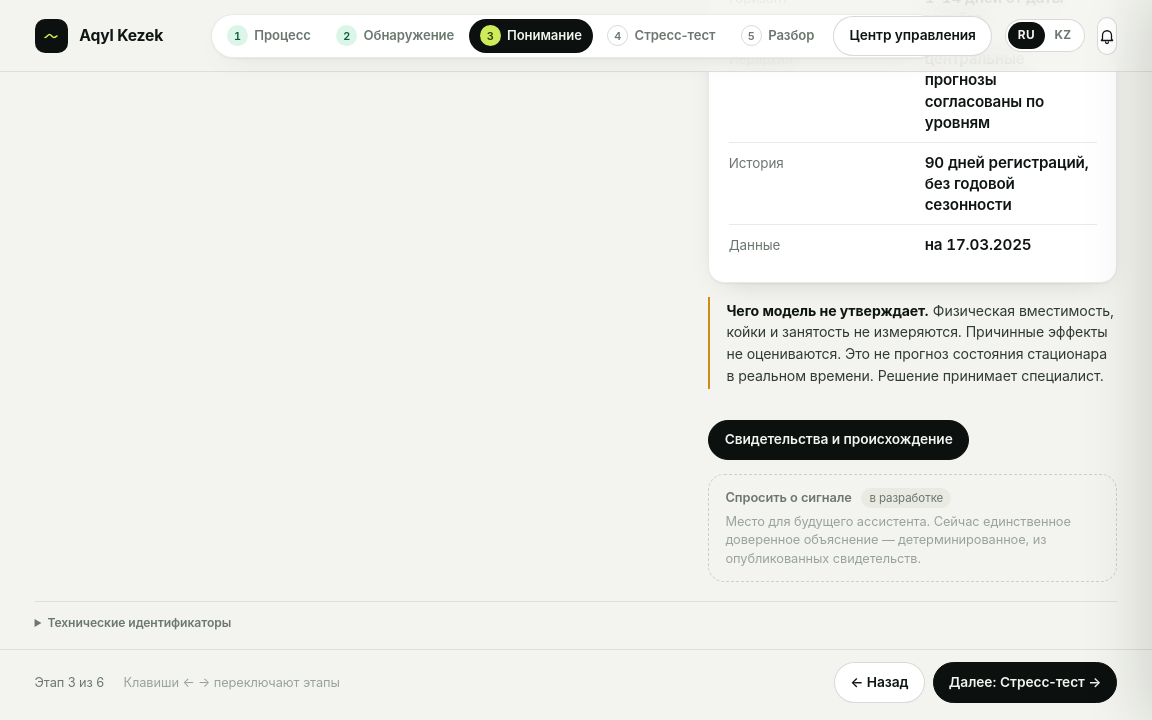
Test: Guided decision journey › UNDERSTAND renders the forecast story, mapped reasons and an evidence drawer without raw enums
(page scrolled)
Expected: the text "Спросить о сигнале" is shown, 726,489 -> 852,507
Click the button "Свидетельства и происхождение". click: (839, 440)
box: 708,420 -> 969,460
(page scrolled)
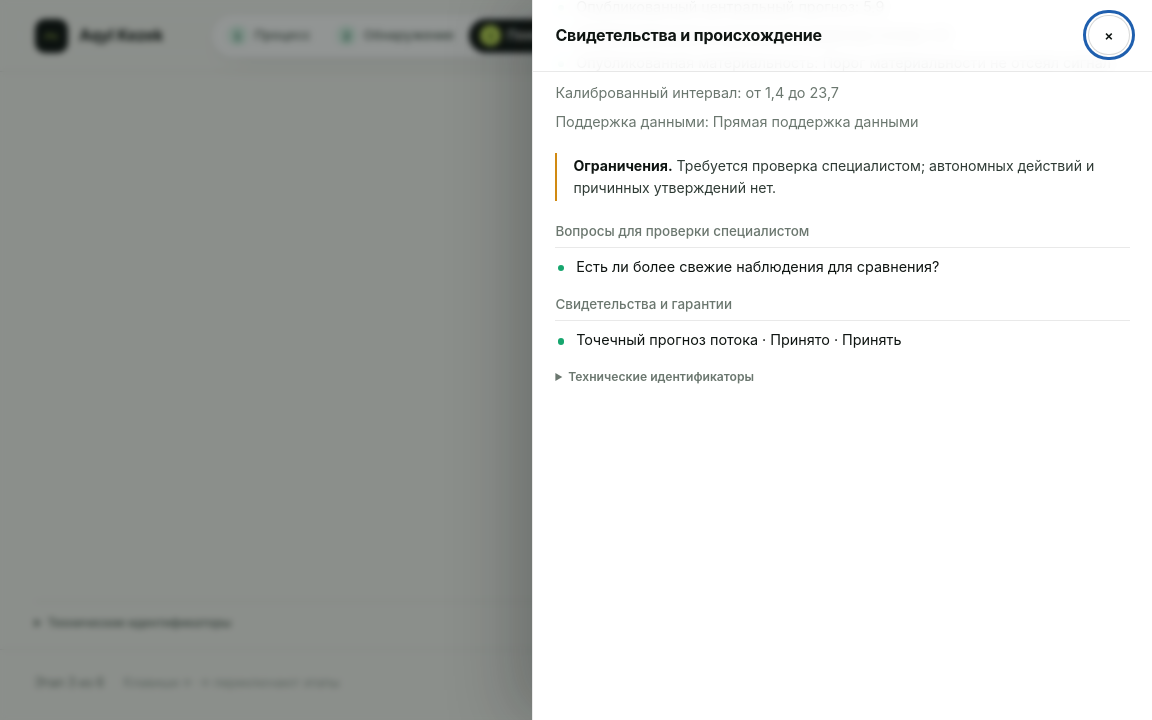
Expected: the text "Калиброванный интервал: от 1,4 до 23,7" is shown, 555,84 -> 839,100
Expected: the list item "Есть ли более свежие наблюдения для сравнения?" is shown, 576,258 -> 939,275
Click the heading "Технические идентификаторы". click: (661, 376)
box: 568,368 -> 754,384
(page scrolled)
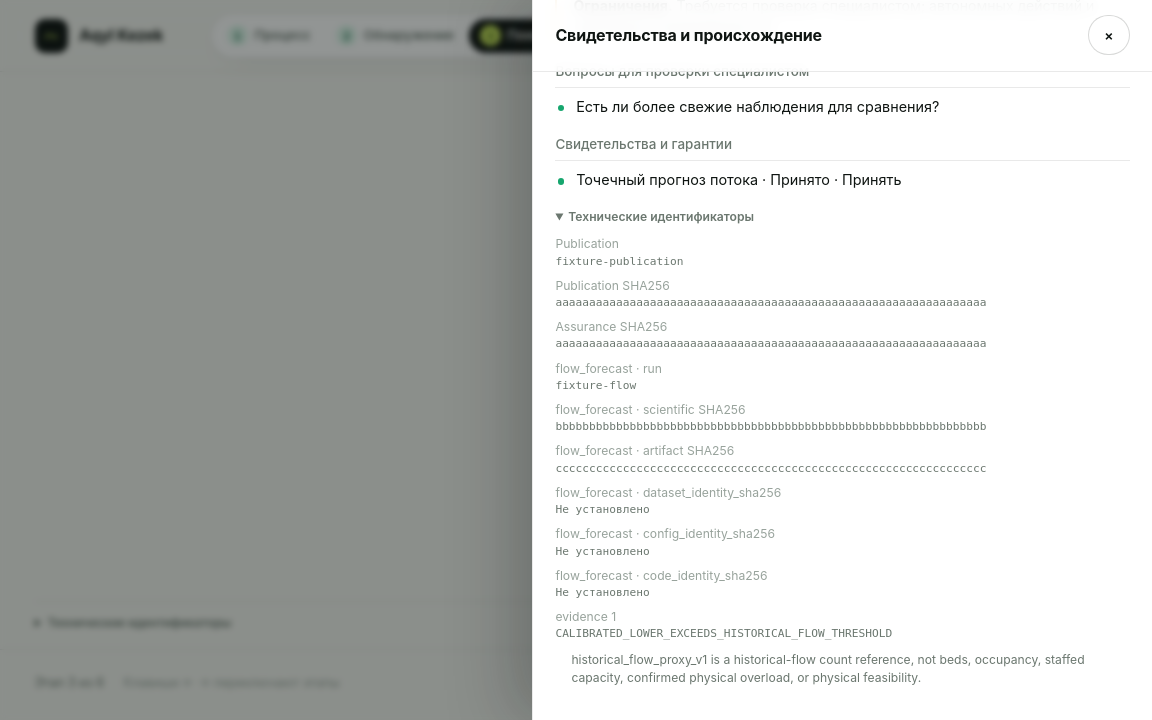
Expected: the text "CALIBRATED_LOWER_EXCEEDS_HISTORICAL_FLOW_THRESHOLD" is shown, 555,627 -> 892,640
Press Escape
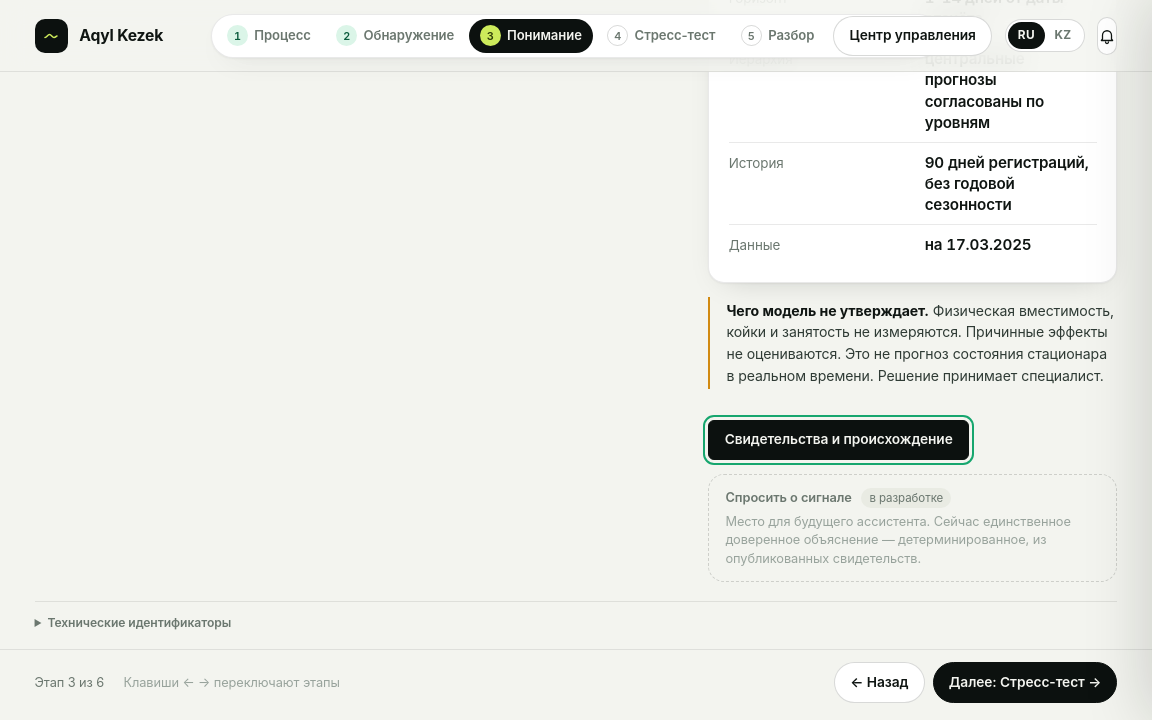
Expected: the dialog is gone
